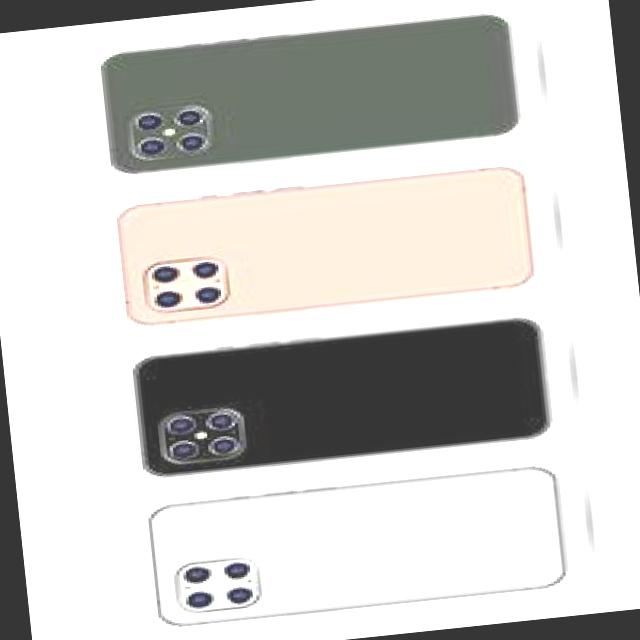lens_back: (205, 432, 242, 458), (164, 411, 198, 437), (168, 437, 201, 462), (183, 586, 216, 610), (174, 130, 207, 154), (222, 583, 256, 606), (204, 409, 238, 432), (171, 105, 205, 128), (181, 562, 213, 586), (220, 558, 252, 582), (152, 286, 184, 310), (192, 282, 224, 306), (134, 110, 164, 134), (149, 262, 181, 284), (188, 258, 220, 280), (137, 135, 166, 156)
phone: (141, 461, 568, 629), (95, 8, 522, 175), (112, 162, 538, 328), (130, 314, 556, 478)
